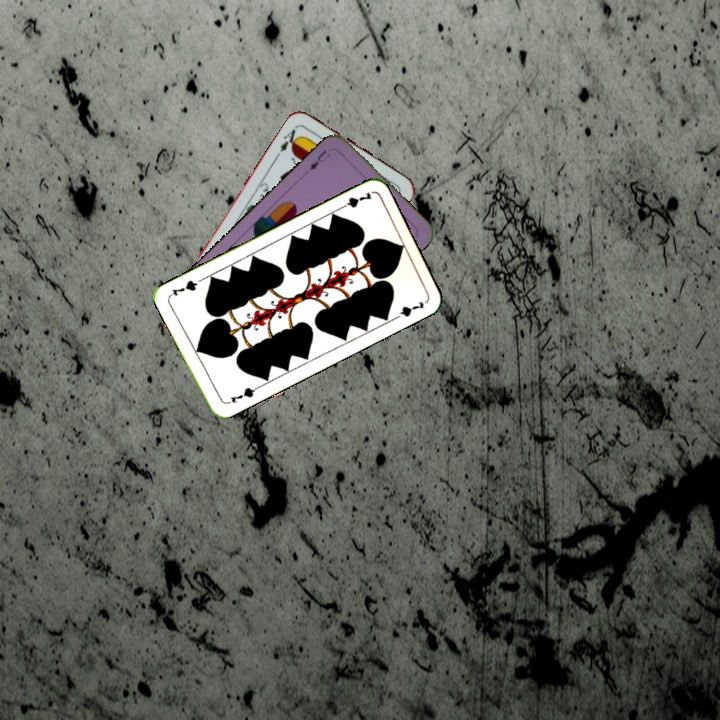EA: (273, 122, 303, 159)
EU: (305, 146, 332, 173)
G7: (335, 188, 374, 212), (226, 383, 260, 406)
